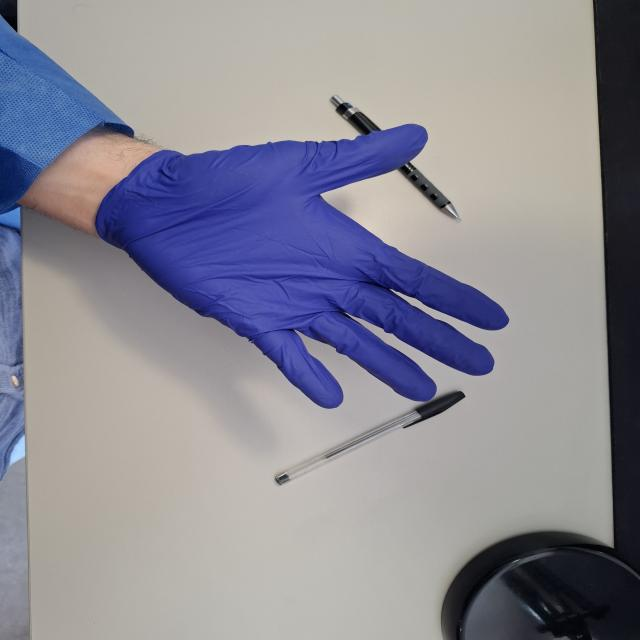glove_on: (93, 120, 517, 412)
